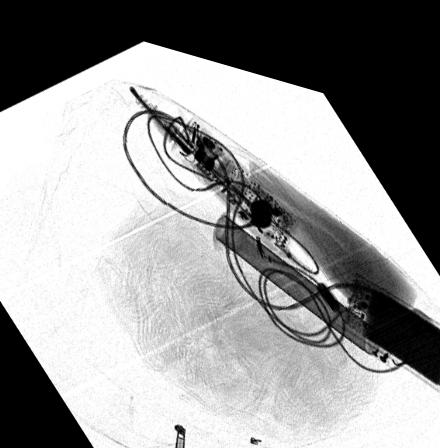Powerbank: (339, 251, 440, 367)
